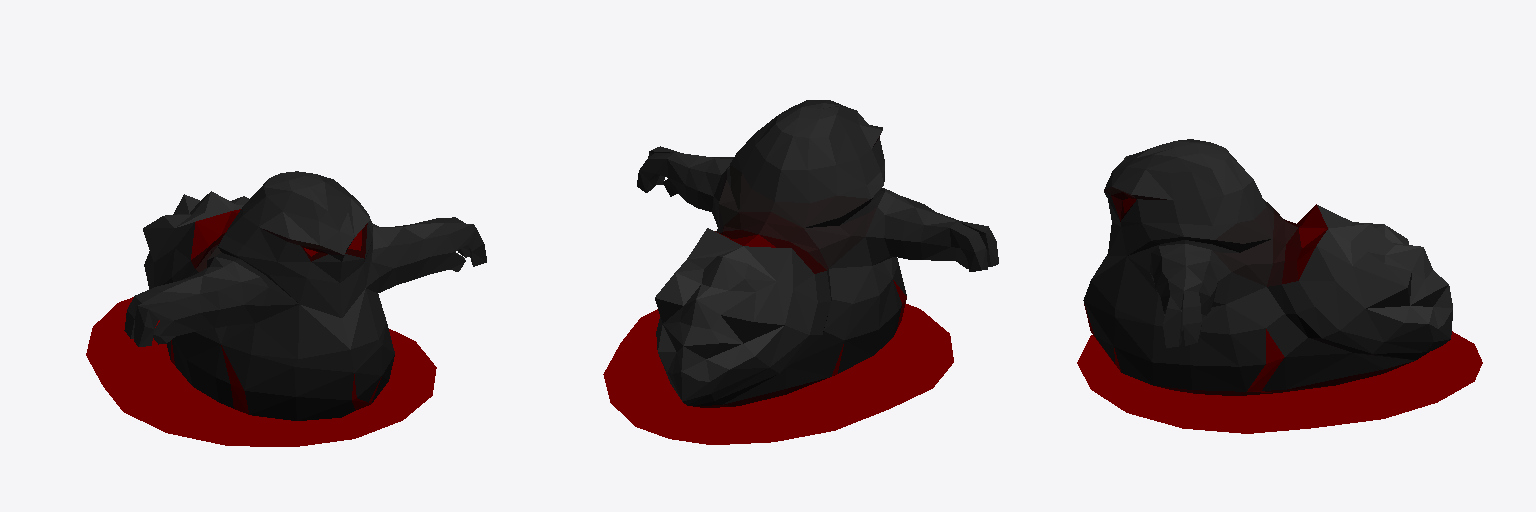
3 views of the same model, side by side, from view 1: azimuth 30°, elevation 25°; view 2: azimuth 150°, elevation 25°; view 3: azimuth 270°, elevation 25° (orthographic).
Visible parts, largest first — view 1: runescapemodel; view 2: runescapemodel; view 3: runescapemodel.
Part boxes in pixels (bbox=[...]): runescapemodel: bbox=[86, 171, 486, 446]; runescapemodel: bbox=[603, 100, 998, 444]; runescapemodel: bbox=[1077, 139, 1482, 433].
Bounding box in the file's own units: 380 × 225 × 383.